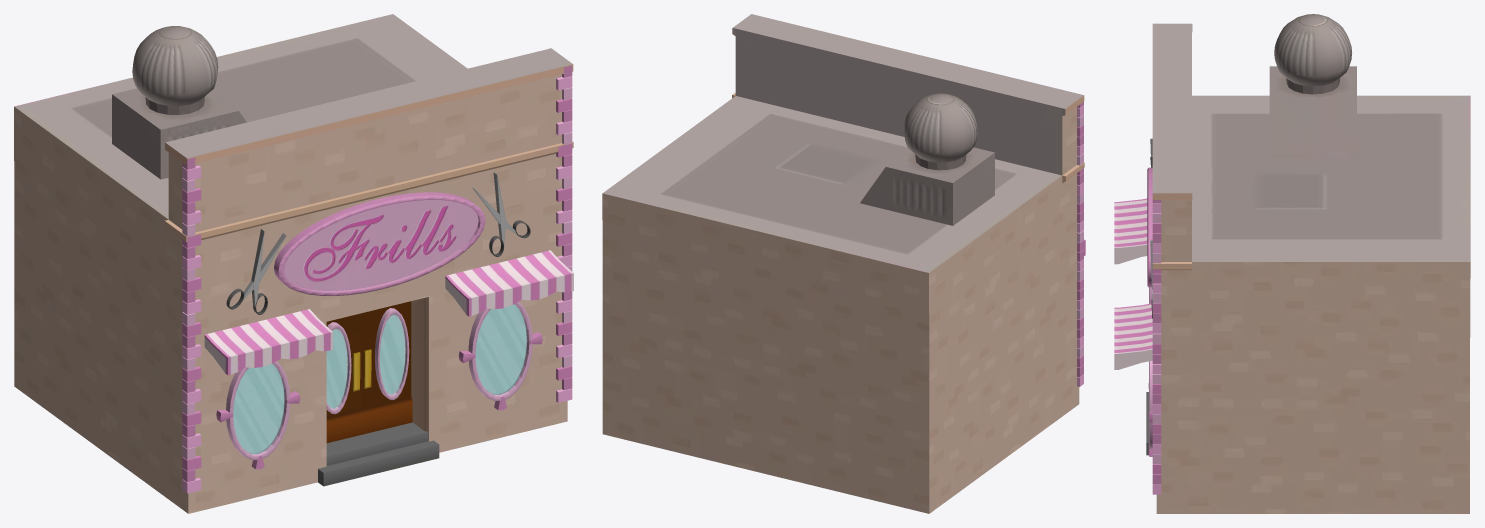
The model's file is french_barbers_shop.glb.
3 renders of one model, left to right at view 1: azimuth 30°, elevation 25°; view 2: azimuth 150°, elevation 25°; view 3: azimuth 270°, elevation 25°, orthographic. The views are drawn at different scales.
Parts seen in each view (by area): view 1: barbers; view 2: barbers; view 3: barbers.
Part boxes in pixels (box(x1,y1,x2,y2)): barbers: box(14, 14, 573, 513); barbers: box(602, 14, 1085, 513); barbers: box(1114, 14, 1470, 513).
Bounding box in the file's own units: 8.21 × 8.15 × 7.26.
Materials: 1 (1 with a texture image).
